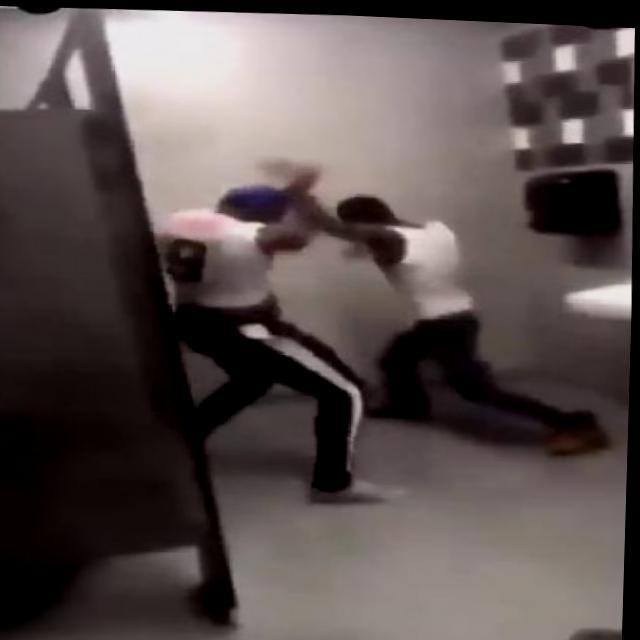fight: (158, 143, 590, 508)
